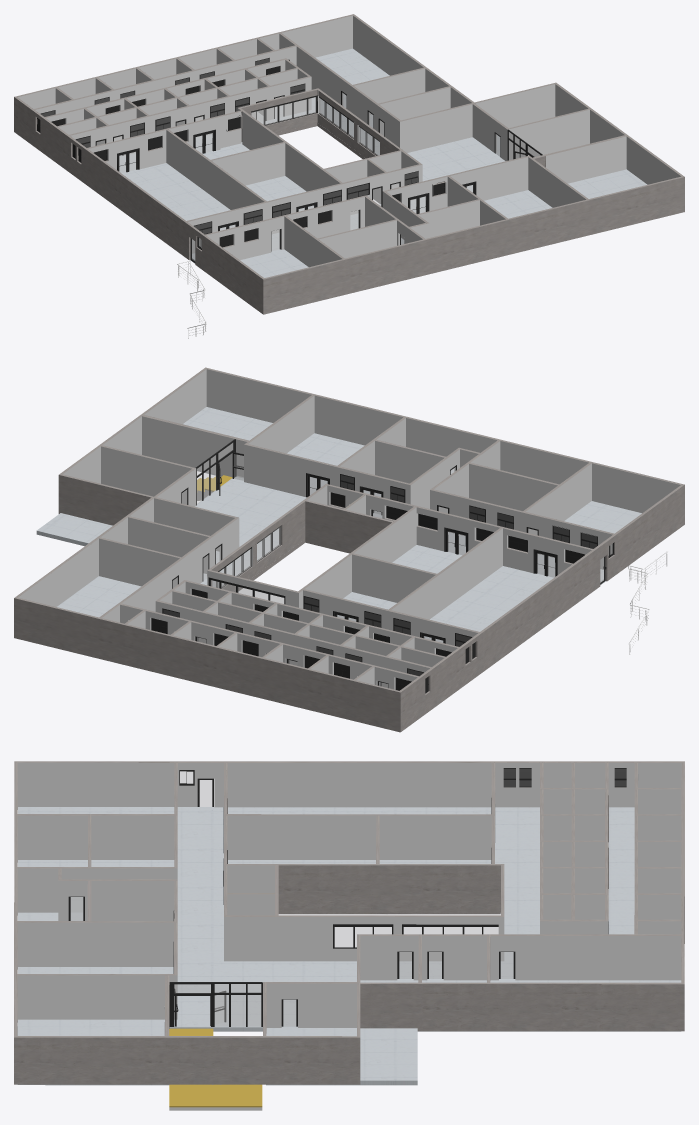
Rendered from POSGRADO-P4OP.glb.
3 views of the same model, one above another, from view 1: azimuth 30°, elevation 25°; view 2: azimuth 150°, elevation 25°; view 3: azimuth 270°, elevation 25° (orthographic). The views are drawn at different scales.
Visible parts, largest first — view 1: Paredes_P4, Piso_P4, Entrada_P4, uploads_files_2998670_1999:fencing; view 2: Paredes_P4, Piso_P4, Entrada_P4, uploads_files_2998670_1999:fencing; view 3: Paredes_P4, Piso_P4, Entrada_P4, escaleras p4.
Part boxes in pixels (x1,y1,x2,y2): Paredes_P4: (14,14,684,314); Piso_P4: (119,48,647,277); Entrada_P4: (37,58,542,262); uploads_files_2998670_1999:fencing: (177,260,206,338); Paredes_P4: (14,367,684,732); Piso_P4: (36,407,641,685); Entrada_P4: (151,439,613,693); uploads_files_2998670_1999:fencing: (237,455,667,654); Paredes_P4: (14,761,684,1084); Piso_P4: (17,807,681,1085); Entrada_P4: (68,768,626,1026); escaleras p4: (169,1028,262,1110).
Size of the model in its own units: 0.3997 by 0.0862 by 0.3868.
Materials: 8 (2 with a texture image).
